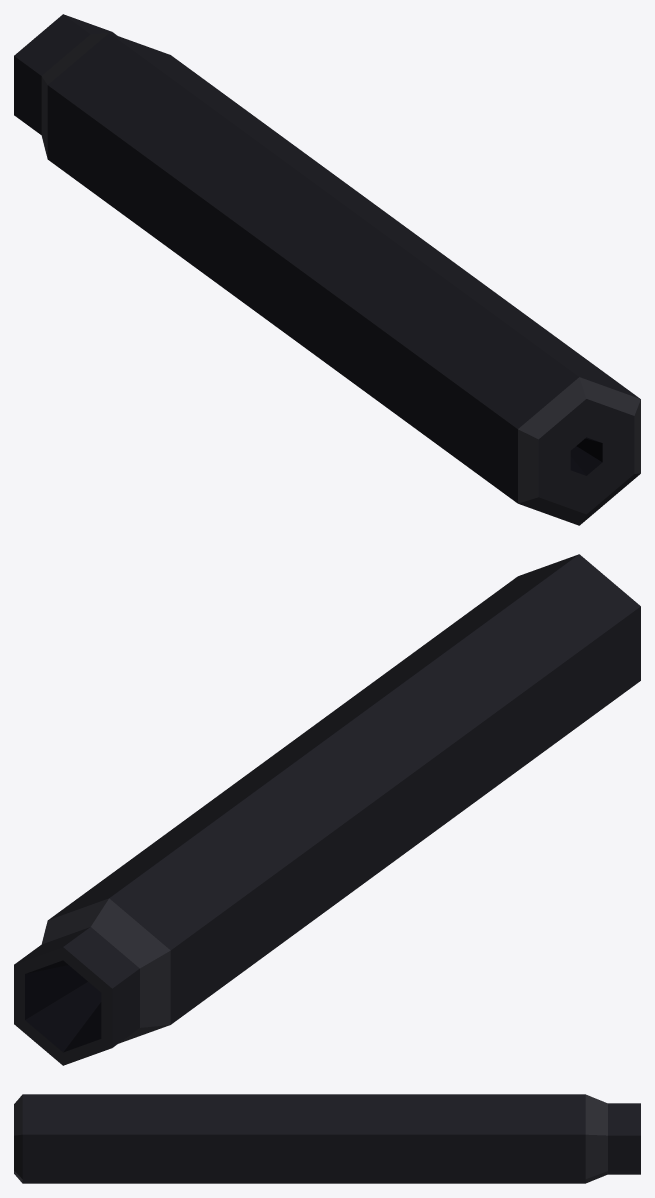
Rendered from MW1_MuzzleDevice_5.56mm_01.fbx.
3 views of the same model, one above another, from view 1: azimuth 30°, elevation 25°; view 2: azimuth 150°, elevation 25°; view 3: azimuth 270°, elevation 25° (orthographic). The views are drawn at different scales.
Parts seen in each view (by area): view 1: MuzzleDevice_5.56mm_01; view 2: MuzzleDevice_5.56mm_01; view 3: MuzzleDevice_5.56mm_01.
Boxes of the visible parts, x1,y1,x2,y2 form: MuzzleDevice_5.56mm_01: [14, 14, 640, 525]; MuzzleDevice_5.56mm_01: [14, 554, 640, 1065]; MuzzleDevice_5.56mm_01: [14, 1094, 640, 1183].
Bounding box in the file's own units: 1.85 × 2.14 × 13.64.
